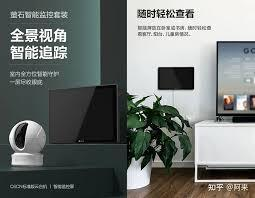maru: (8, 120, 48, 154)
